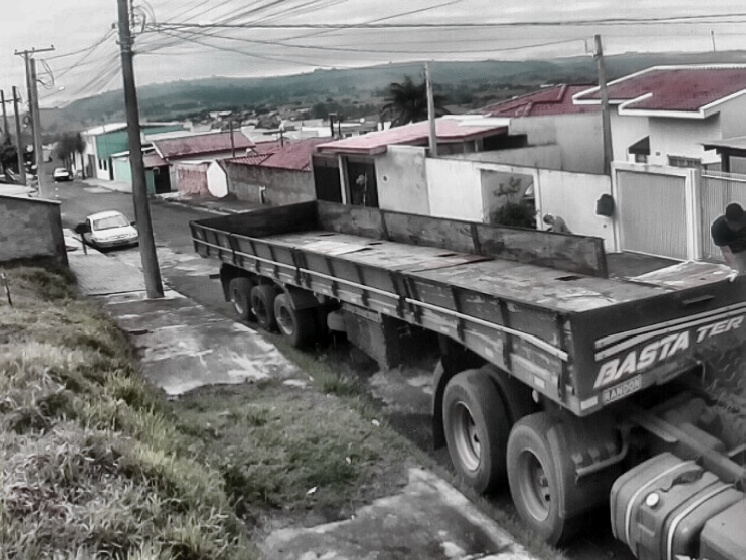person: (710, 202, 746, 283), (541, 213, 572, 236)
